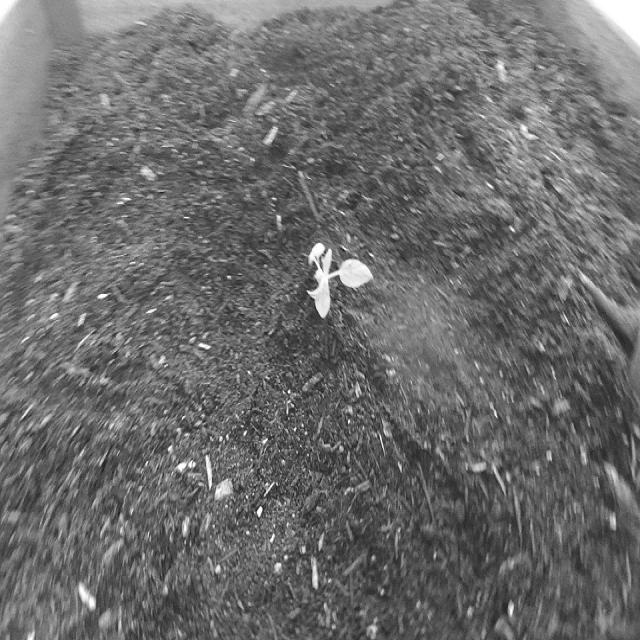Healthy: (305, 241, 377, 321)
